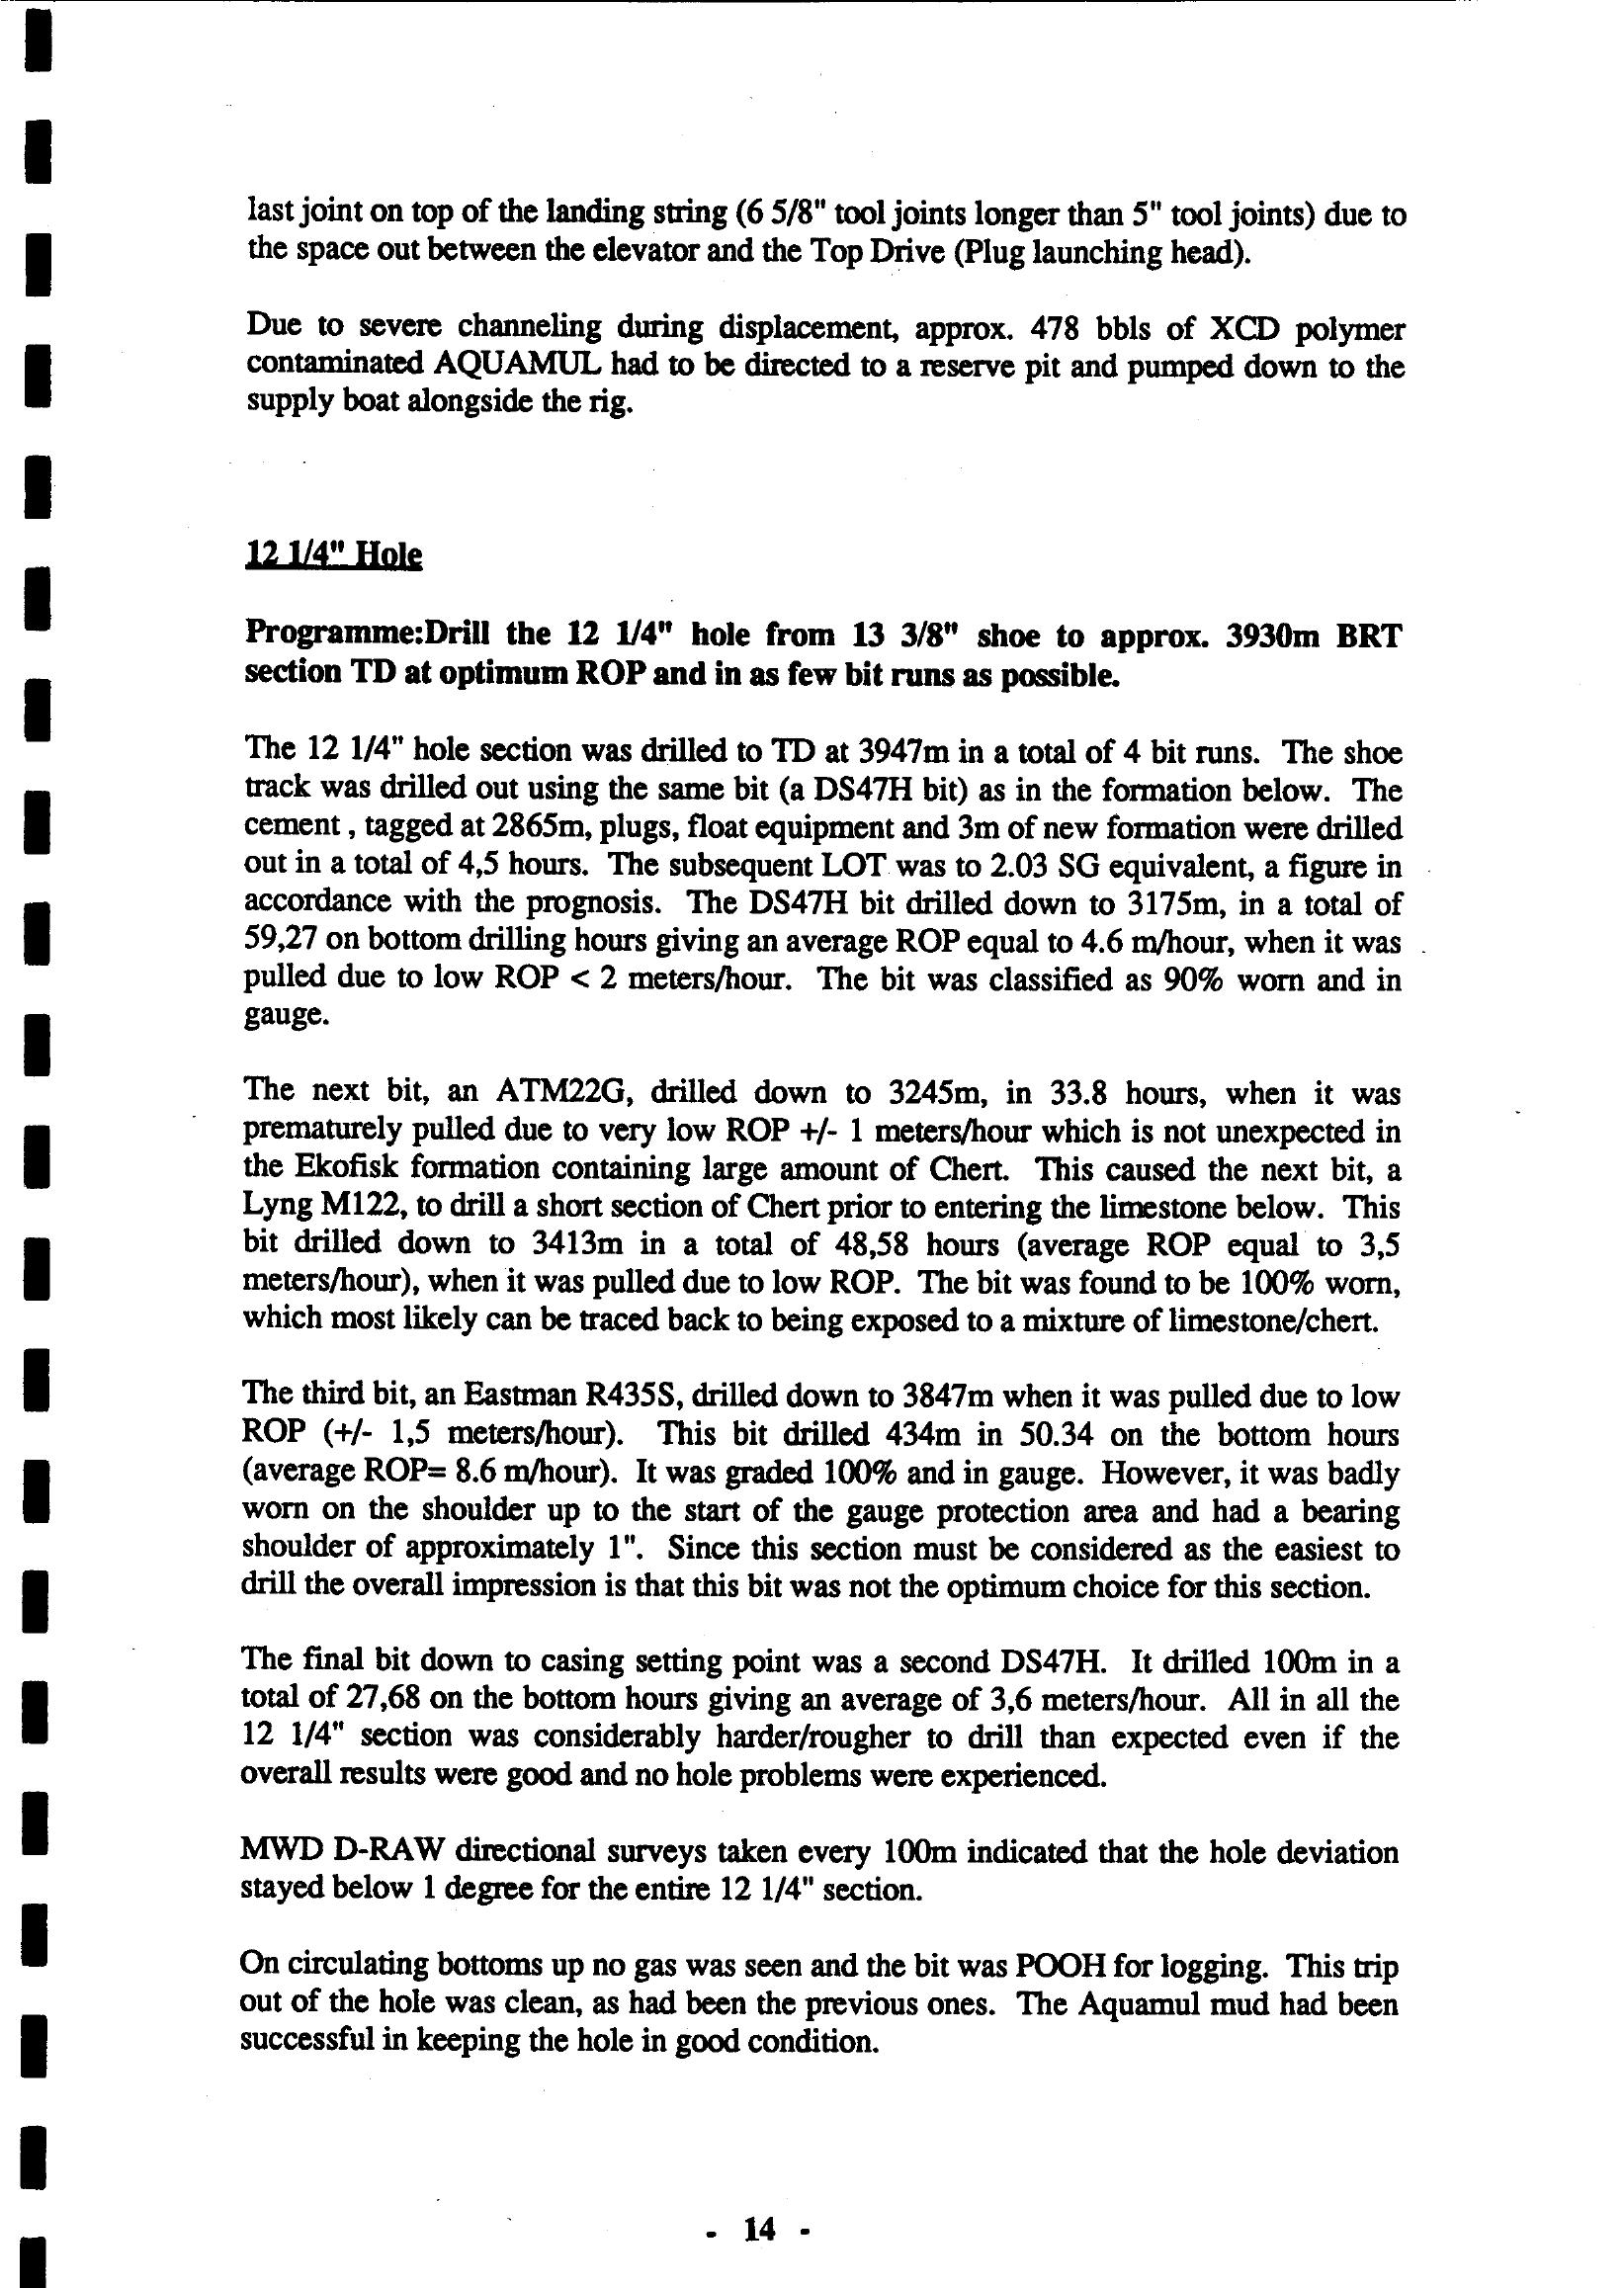text: (193, 165, 1469, 2111)
